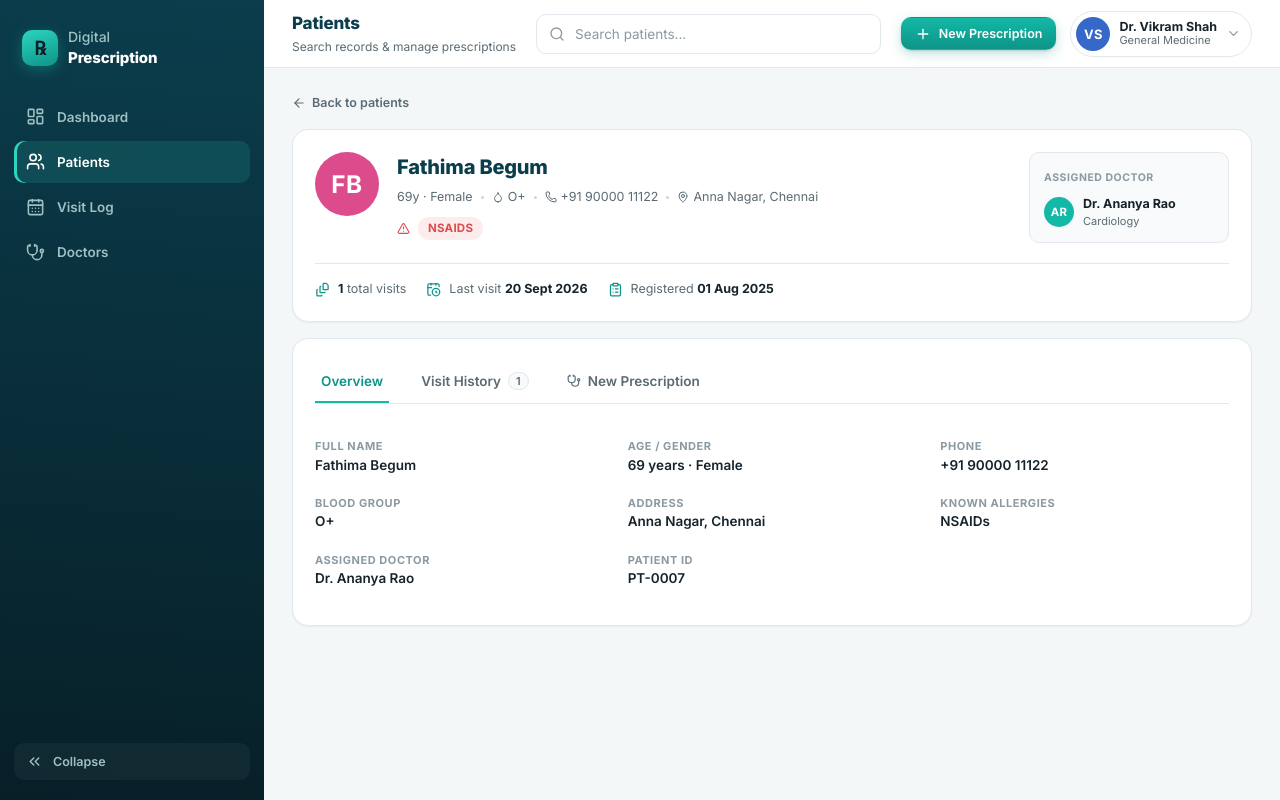
it: PatientDetailPage › previews the pad with the signed-in doctor's details
Click the tab "New Prescription" at point(633, 382), box 561,360 -> 706,402
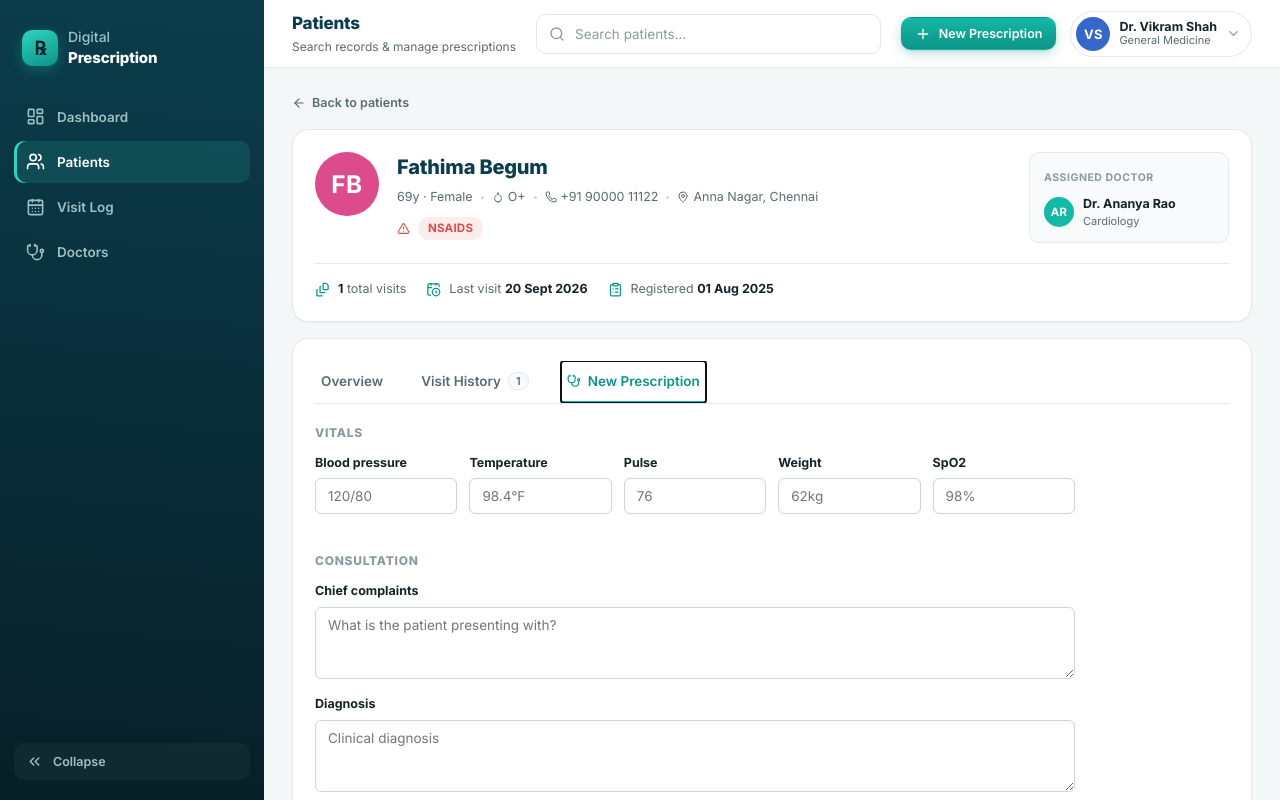
Type "Viral fever" into the text box labelled "Diagnosis" at point(695, 756), box 315,720 -> 1075,792
(page scrolled)
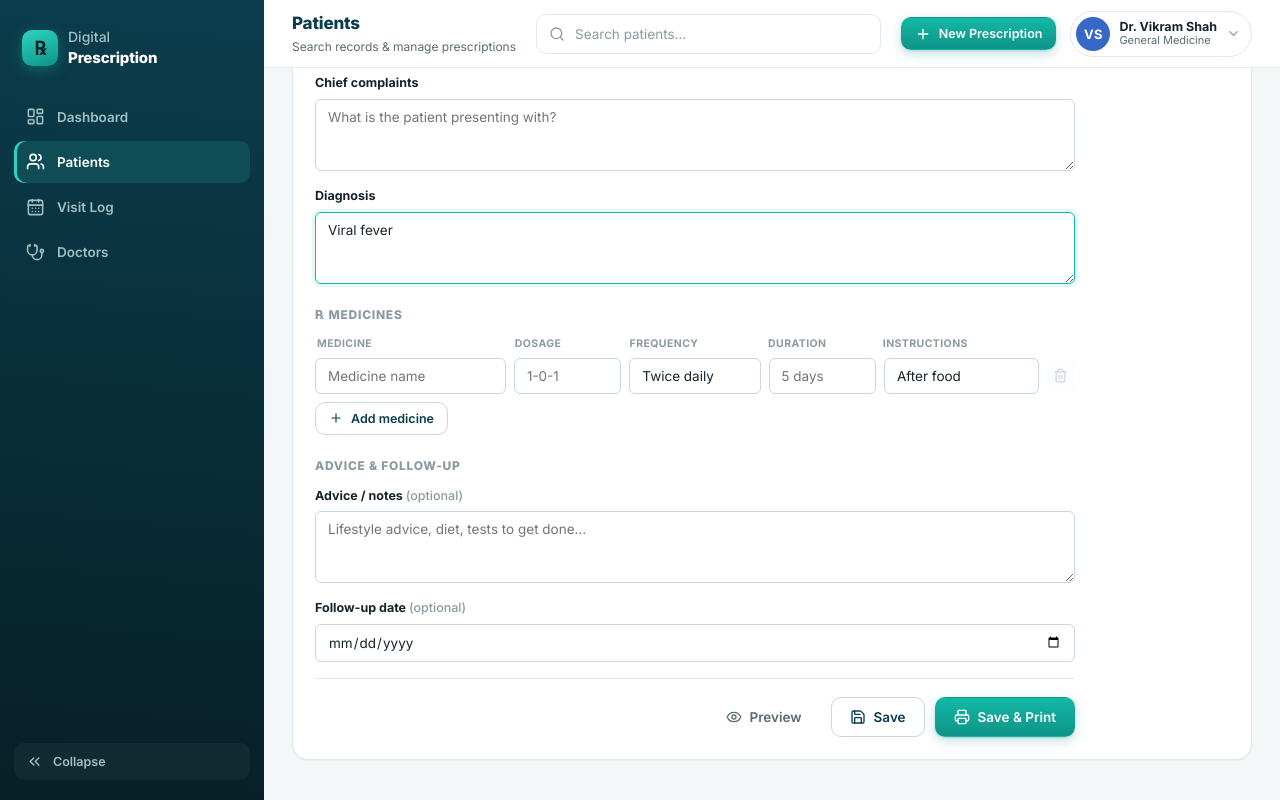
Click the button "Preview" at point(764, 717), box 706,697 -> 821,737
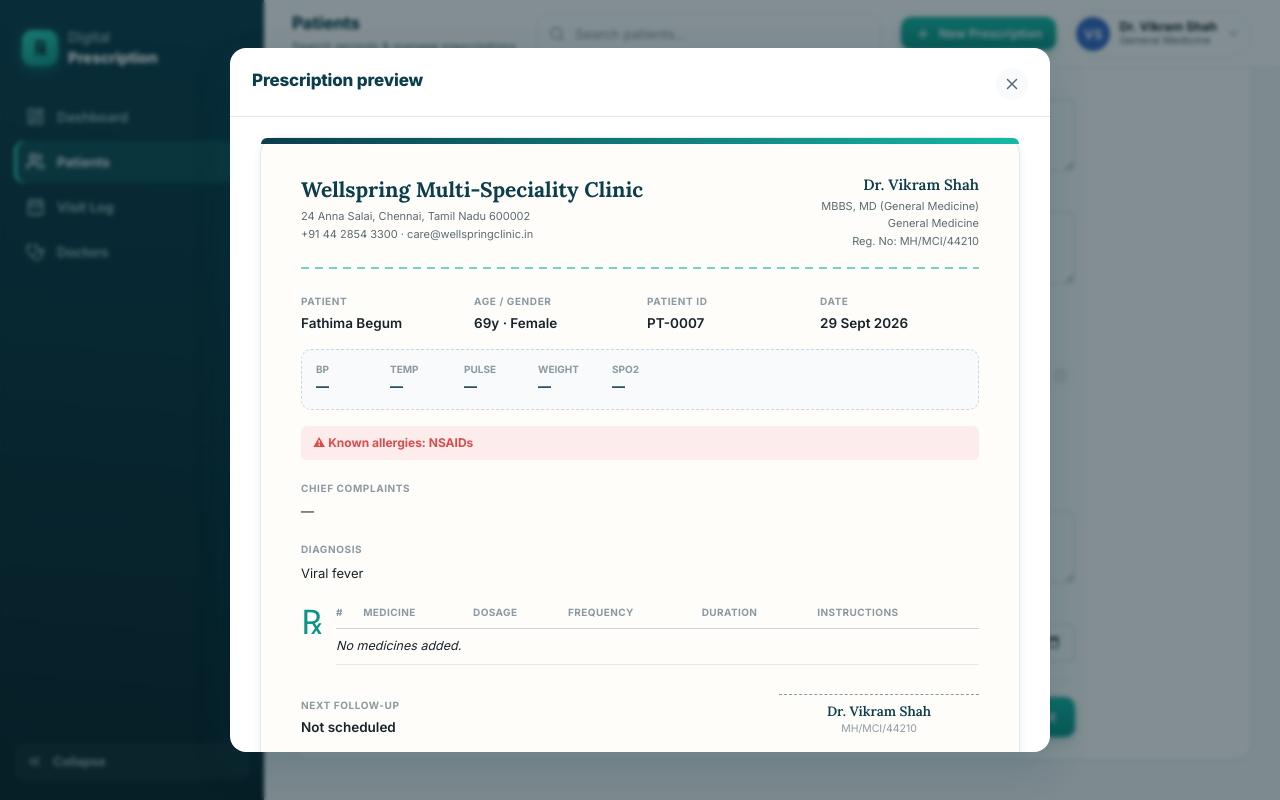
Result: the text "Dr. Vikram Shah" in the row of "Wellspring Multi-Speciality Clinic" is shown at 863,175 -> 979,194
Result: the text "Viral fever" is shown at 301,565 -> 363,581
Result: the text "⚠ Known allergies: NSAIDs" is shown at 301,426 -> 979,460
